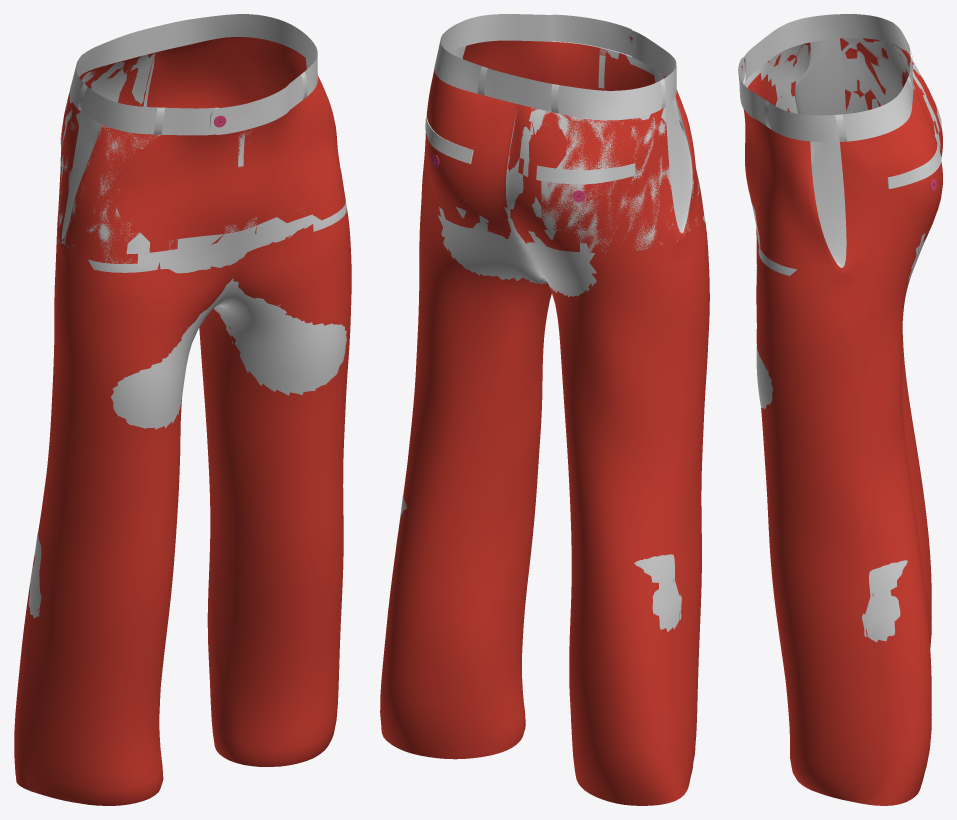
The model's file is Trousers_Mesh.fbx.
The picture shows the model from 3 angles, left to right: view 1: azimuth 30°, elevation 25°; view 2: azimuth 150°, elevation 25°; view 3: azimuth 270°, elevation 25°; orthographic projection. The views are drawn at different scales.
Visible parts, largest first — view 1: Kalu - Double Pleats, Kevi - Double Pleats, Base; view 2: Kalu - Double Pleats, Kevi - Double Pleats, Base, 1 Revolver Pocket (Right), 1 Flap Pocket (Left); view 3: Kalu - Double Pleats, Base, Kevi - Double Pleats, 1 Flap Pocket (Left).
Boxes of the visible parts, x1,y1,x2,y2 form: Kalu - Double Pleats: (14, 37, 351, 805); Kevi - Double Pleats: (28, 53, 346, 618); Base: (61, 14, 317, 239); Kalu - Double Pleats: (380, 40, 709, 805); Kevi - Double Pleats: (396, 48, 704, 631); Base: (434, 14, 692, 233); 1 Revolver Pocket (Right): (536, 163, 635, 184); 1 Flap Pocket (Left): (425, 112, 473, 163); Kalu - Double Pleats: (743, 38, 942, 805); Base: (738, 14, 913, 267); Kevi - Double Pleats: (744, 38, 942, 642); 1 Flap Pocket (Left): (887, 144, 941, 189).
Bounding box in the file's own units: 40.71 × 92.16 × 25.18.
